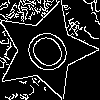O: (20, 25, 81, 85)
